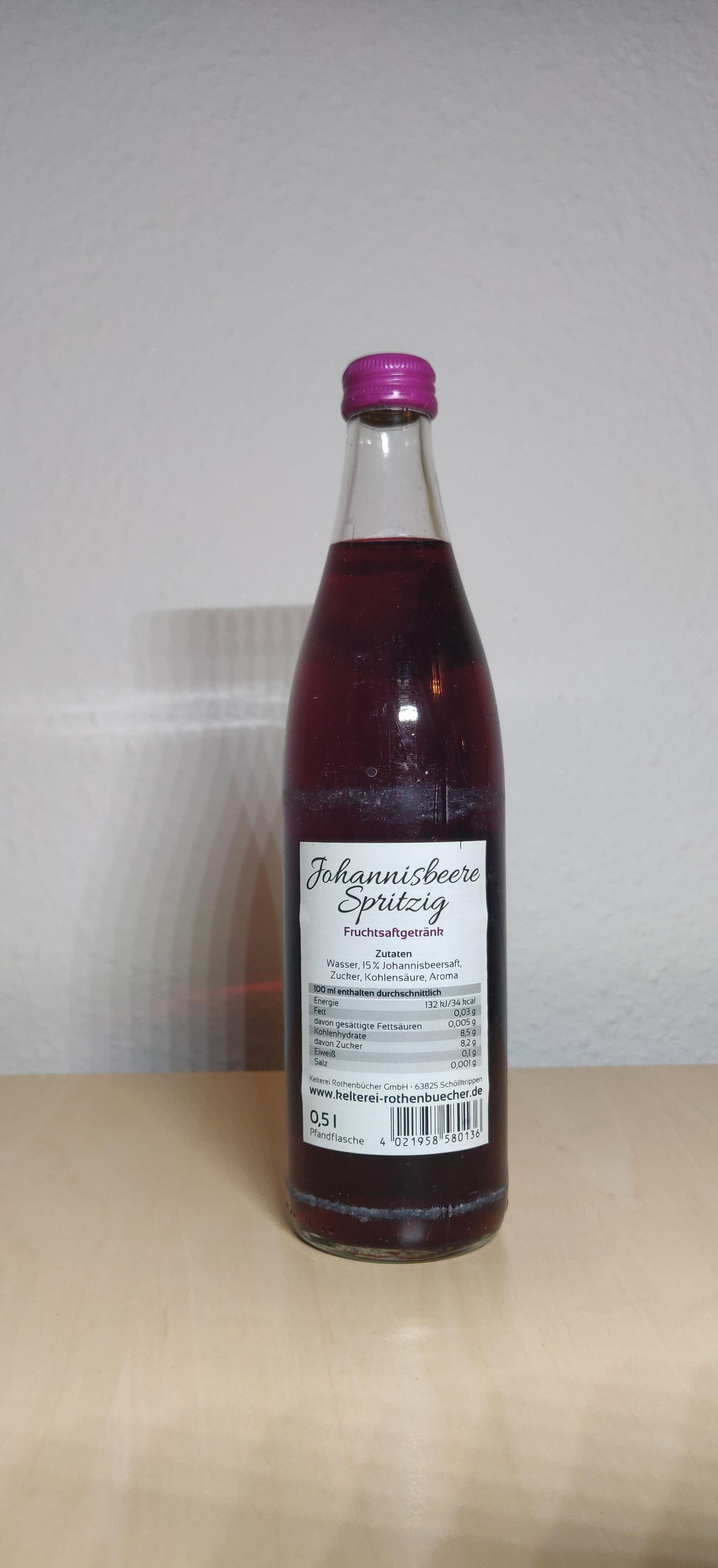bottle-glass: (280, 348, 515, 1270)
